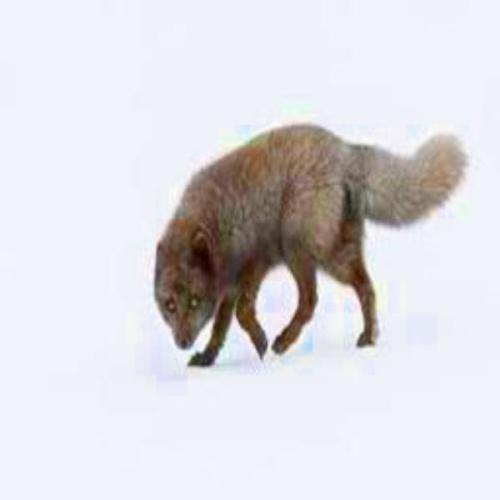arctic_fox-endangered: (151, 127, 438, 359)
